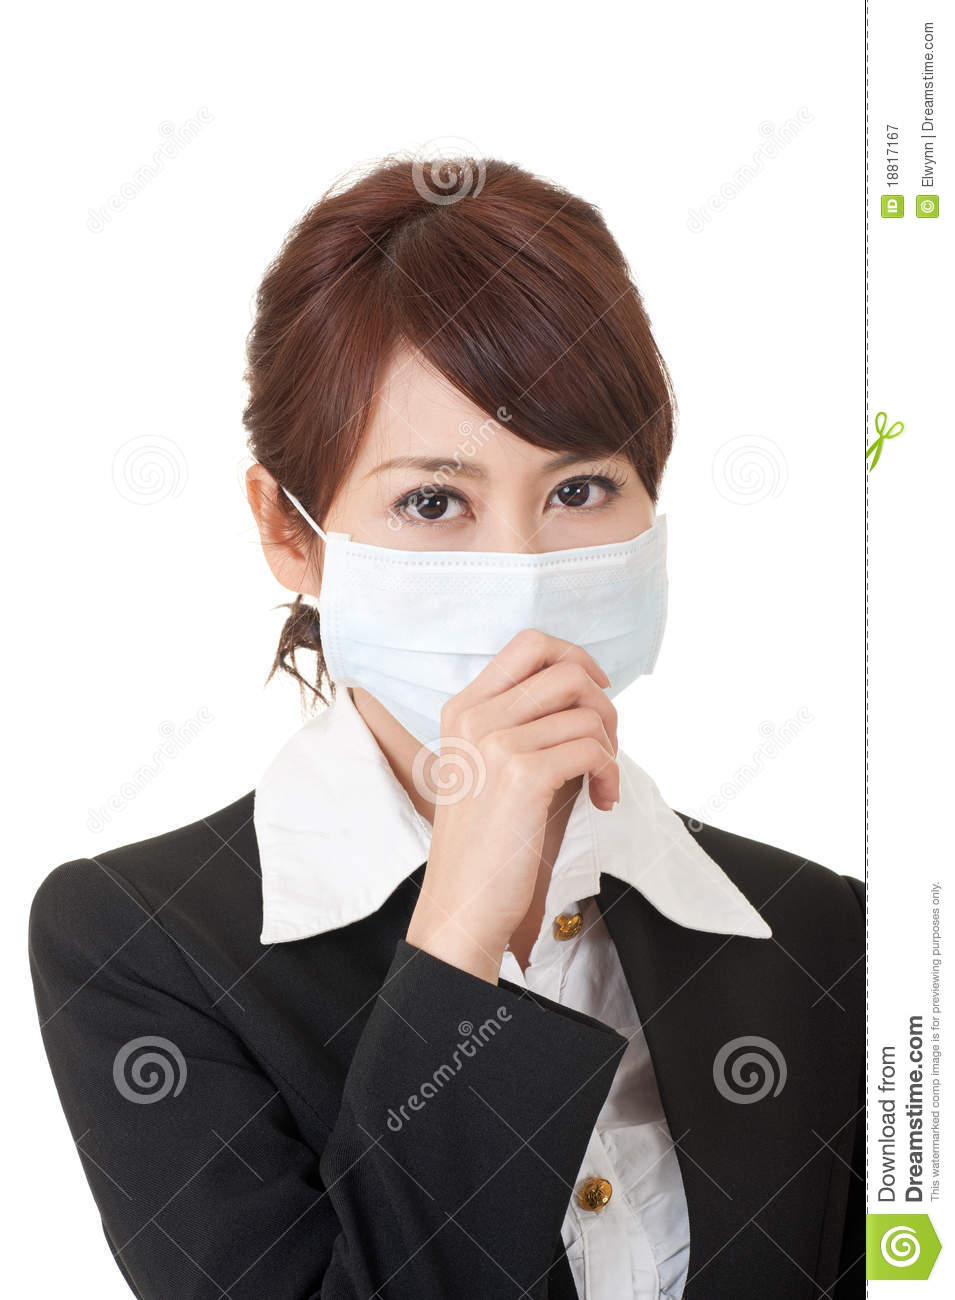mask: (325, 526, 668, 759)
